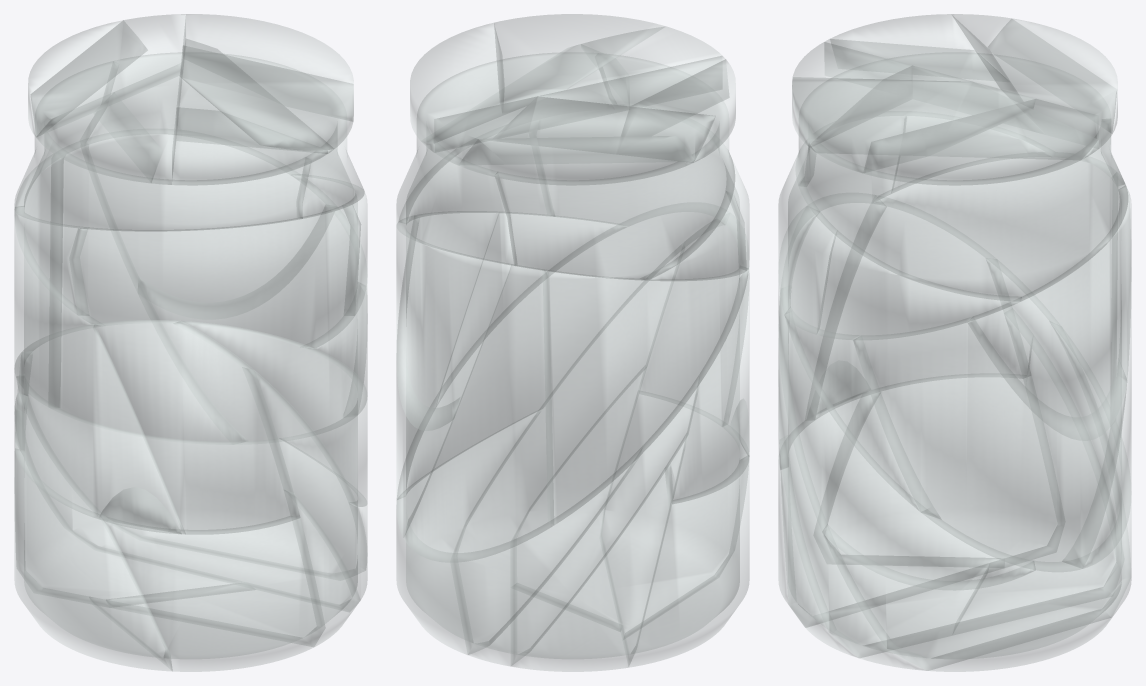
Rendered from fracture-solids.glb.
3 renders of one model, left to right at view 1: azimuth 30°, elevation 25°; view 2: azimuth 150°, elevation 25°; view 3: azimuth 270°, elevation 25°, orthographic.
Parts seen in each view (by area): view 1: fragment-023, fragment-006, fragment-021, fragment-005, fragment-009, fragment-008, fragment-016, fragment-022, fragment-003, fragment-004, fragment-011, fragment-007 (+17 smaller); view 2: fragment-017, fragment-003, fragment-016, fragment-007, fragment-006, fragment-011, fragment-005, fragment-009, fragment-008, fragment-012, fragment-004, fragment-028 (+16 smaller); view 3: fragment-009, fragment-010, fragment-004, fragment-006, fragment-017, fragment-022, fragment-007, fragment-003, fragment-008, fragment-001, fragment-002, fragment-005 (+16 smaller).
Part boxes in pixels (box(x1,y1,x2,y2)): fragment-023: box(69, 204, 360, 348); fragment-006: box(16, 376, 367, 573); fragment-021: box(93, 320, 299, 534); fragment-005: box(90, 514, 325, 671); fragment-009: box(139, 205, 367, 440); fragment-008: box(88, 134, 325, 302); fragment-016: box(60, 145, 247, 441); fragment-022: box(15, 324, 185, 534); fragment-003: box(14, 351, 367, 611); fragment-004: box(14, 449, 172, 670); fragment-011: box(14, 76, 311, 231); fragment-007: box(174, 321, 367, 506); fragment-017: box(542, 268, 748, 524); fragment-003: box(458, 248, 699, 666); fragment-016: box(404, 264, 553, 562); fragment-007: box(397, 212, 725, 499); fragment-006: box(396, 409, 644, 654); fragment-011: box(495, 56, 734, 280); fragment-005: box(602, 394, 748, 632); fragment-009: box(396, 213, 498, 537); fragment-008: box(396, 218, 511, 430); fragment-012: box(434, 96, 715, 164); fragment-004: box(625, 456, 749, 667); fragment-028: box(511, 464, 673, 671); fragment-009: box(853, 317, 1126, 571); fragment-010: box(799, 126, 1127, 301); fragment-004: box(828, 377, 1057, 557); fragment-006: box(822, 322, 1131, 671); fragment-017: box(873, 158, 1112, 403); fragment-022: box(815, 206, 1022, 419); fragment-007: box(778, 215, 1035, 590); fragment-003: box(778, 258, 1130, 670); fragment-008: box(967, 186, 1131, 440); fragment-001: box(792, 77, 1035, 172); fragment-002: box(863, 99, 1098, 185); fragment-005: box(778, 392, 999, 627).
Size of the model in its own units: 0.1043 by 0.17 by 0.1043.
1 material, 1 textured.
